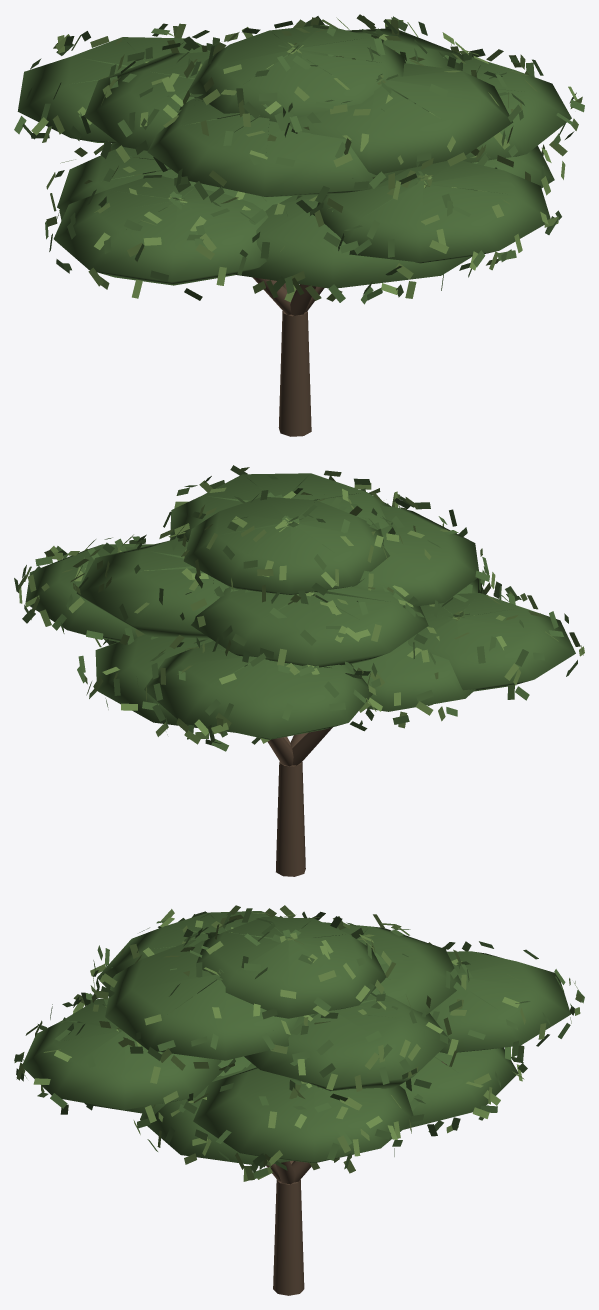
File: spreading-tree.glb
The picture shows the model from 3 angles, top to bottom: view 1: azimuth 30°, elevation 25°; view 2: azimuth 150°, elevation 25°; view 3: azimuth 270°, elevation 25°; orthographic projection. The views are drawn at different scales.
Visible parts, largest first — view 1: spreading-tree-feathery, spreading-tree-feathery-light, spreading-tree-tree-bark; view 2: spreading-tree-feathery, spreading-tree-feathery-light, spreading-tree-tree-bark; view 3: spreading-tree-feathery, spreading-tree-feathery-light, spreading-tree-tree-bark.
Boxes of the visible parts, left/top/right/bottom form: spreading-tree-feathery: left=14, top=16, right=584, bottom=304; spreading-tree-feathery-light: left=31, top=14, right=582, bottom=302; spreading-tree-tree-bark: left=252, top=277, right=324, bottom=436; spreading-tree-feathery: left=14, top=465, right=577, bottom=751; spreading-tree-feathery-light: left=18, top=467, right=584, bottom=744; spreading-tree-tree-bark: left=267, top=727, right=332, bottom=876; spreading-tree-feathery: left=14, top=908, right=584, bottom=1178; spreading-tree-feathery-light: left=14, top=905, right=583, bottom=1181; spreading-tree-tree-bark: left=266, top=1061, right=446, bottom=1295.
Size of the model in its own units: 8.24 by 5.52 by 8.02.
